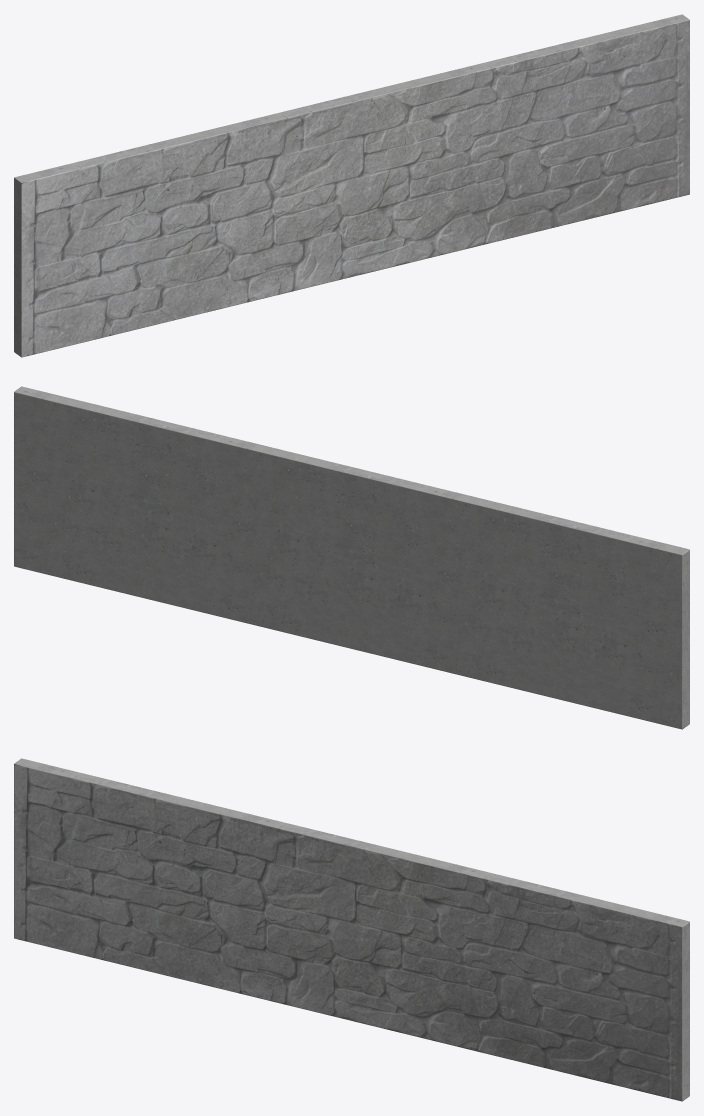
File: RiverStone.glb
3 views of the same model, one above another, from view 1: azimuth 30°, elevation 25°; view 2: azimuth 150°, elevation 25°; view 3: azimuth 330°, elevation 25° (orthographic).
Visible parts, largest first — view 1: Box004; view 2: Box004; view 3: Box004.
Boxes of the visible parts, bbox=[...] form: Box004: bbox=[14, 14, 689, 357]; Box004: bbox=[14, 386, 689, 729]; Box004: bbox=[14, 758, 689, 1101].
Size of the model in its own units: 2 by 0.5 by 0.04.
1 material, 1 textured.
